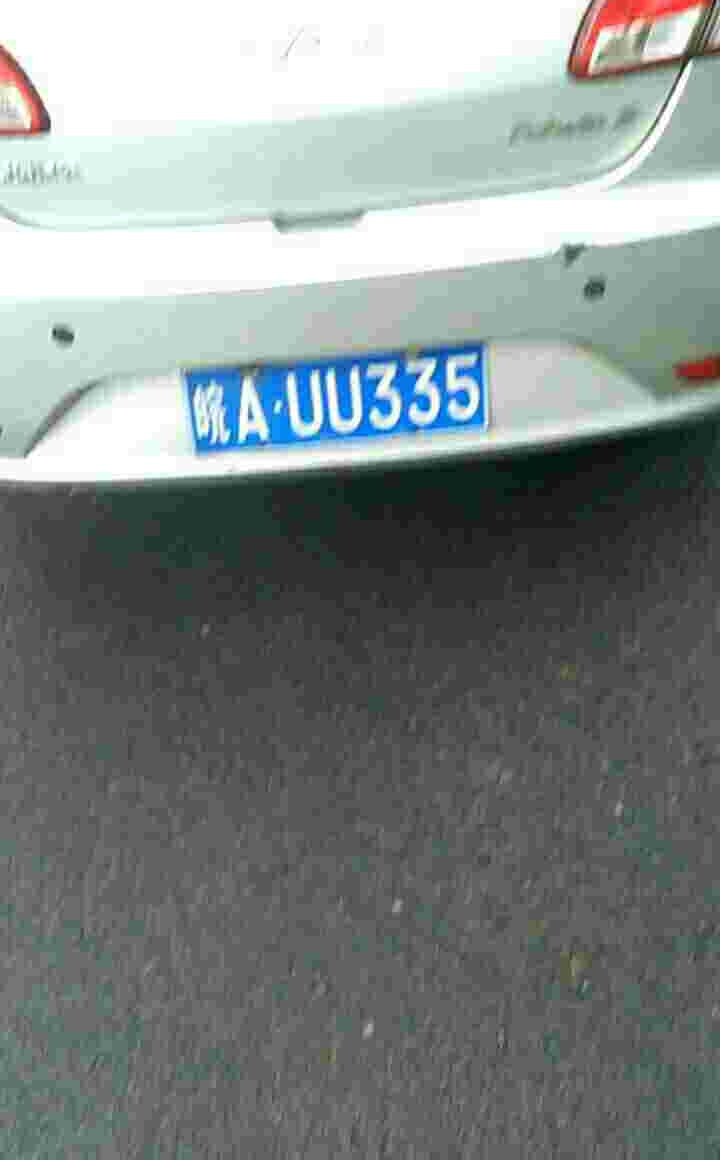license_plate: (190, 347, 492, 454)
